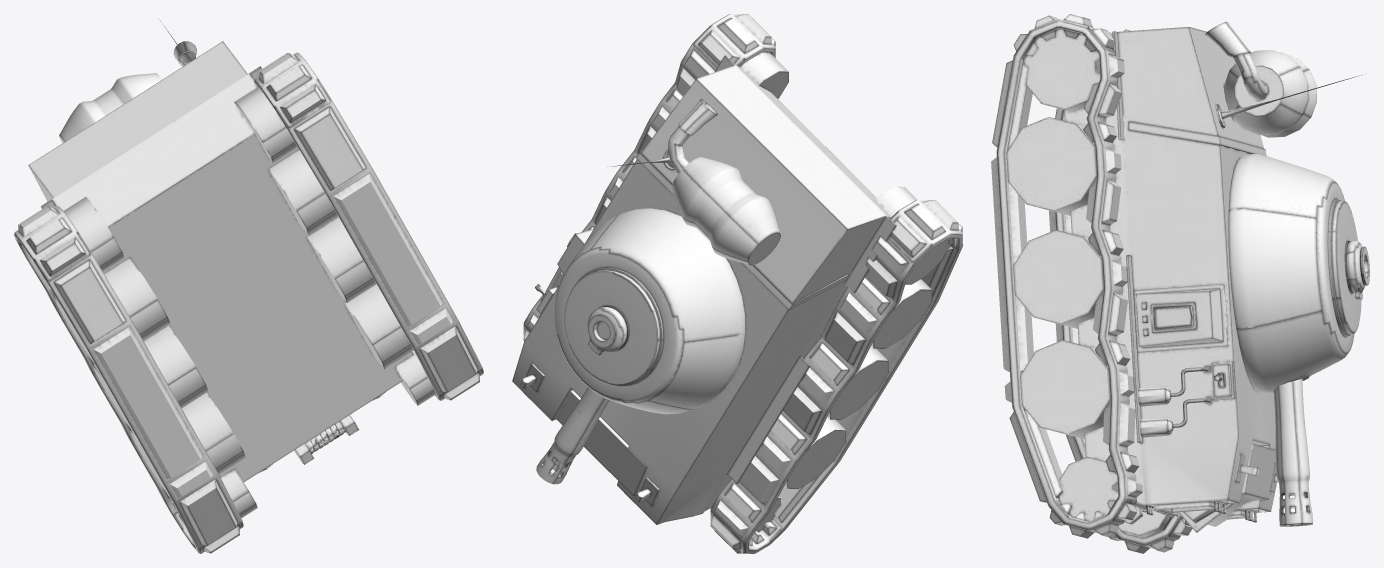
Rendered from miniTank.fbx.
The picture shows the model from 3 angles, left to right: view 1: azimuth 30°, elevation 25°; view 2: azimuth 150°, elevation 25°; view 3: azimuth 270°, elevation 25°; orthographic projection. The views are drawn at different scales.
Visible parts, largest first — view 1: miniTank; view 2: miniTank; view 3: miniTank.
Boxes of the visible parts, x1,y1,x2,y2 form: miniTank: [14, 26, 483, 553]; miniTank: [512, 14, 962, 553]; miniTank: [991, 14, 1369, 553].
Size of the model in its own units: 0.0991 by 0.1083 by 0.0654.
